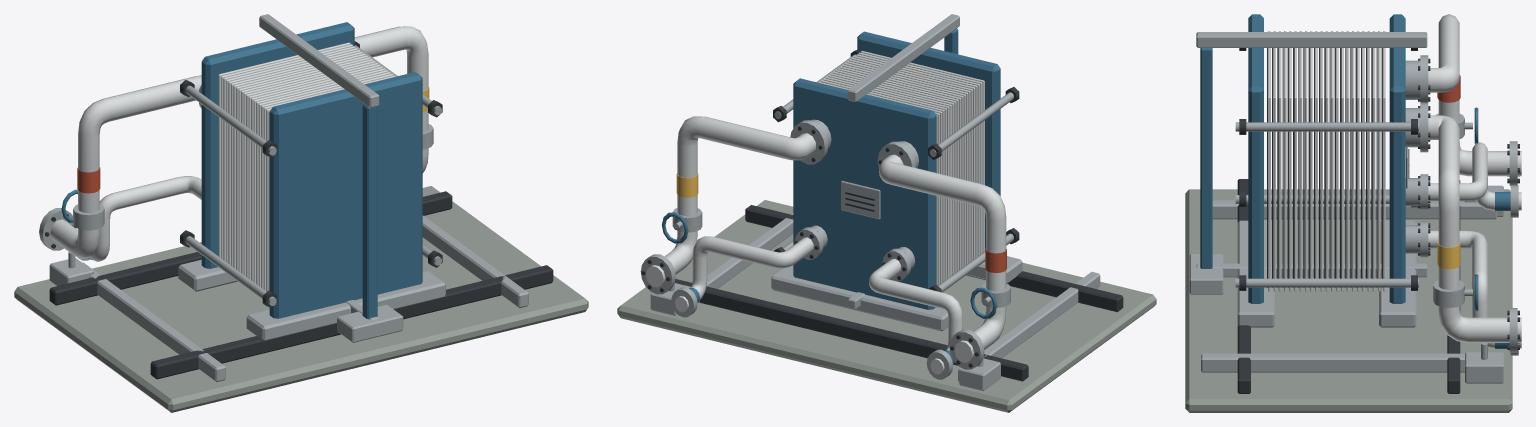
Rendered from 054_heat_exchanger.glb.
3 views of the same model, side by side, from view 1: azimuth 30°, elevation 25°; view 2: azimuth 150°, elevation 25°; view 3: azimuth 270°, elevation 25° (orthographic). The views are drawn at different scales.
Visible parts, largest first — view 1: ThermalAssembly; view 2: ThermalAssembly; view 3: ThermalAssembly.
Boxes of the visible parts, x1,y1,x2,y2 form: ThermalAssembly: [14, 14, 588, 412]; ThermalAssembly: [617, 14, 1156, 412]; ThermalAssembly: [1185, 14, 1521, 412].
Bounding box in the file's own units: 0.3 × 0.18 × 0.2.
